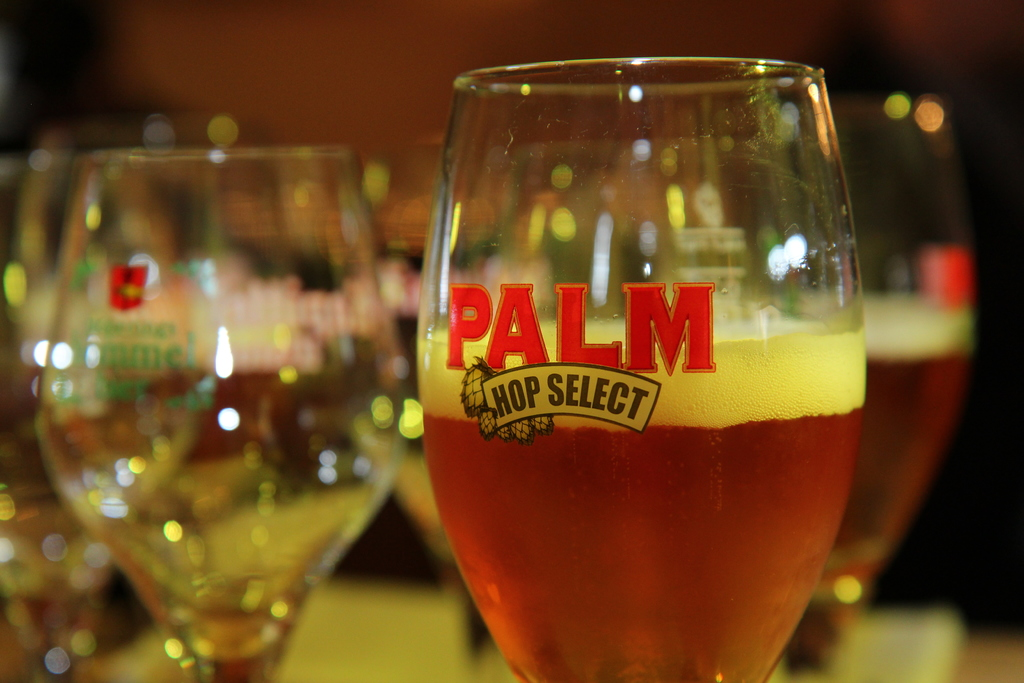Beer: (0, 56, 972, 682)
